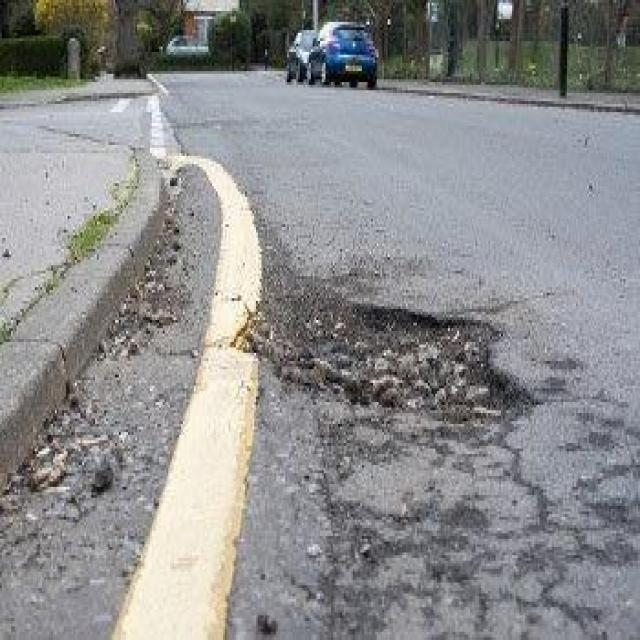jalan retak: (311, 421, 640, 640), (166, 276, 250, 386)
lubang: (240, 273, 532, 446)
